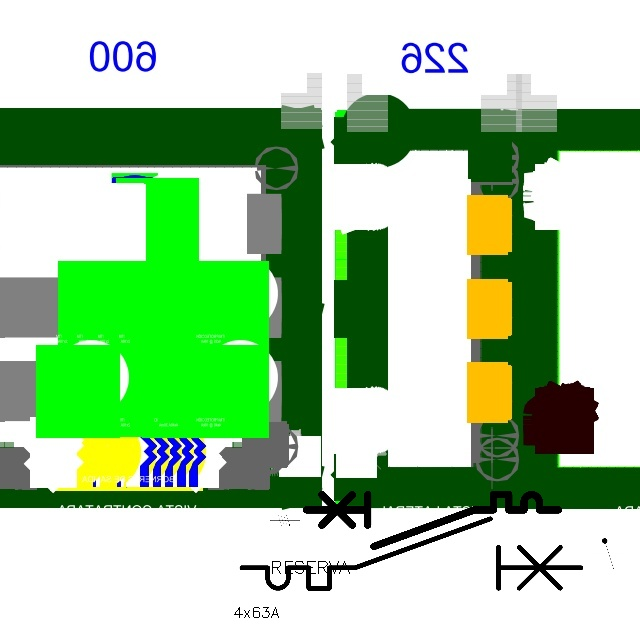interruptor_termomagnetico: (233, 510, 589, 597), (300, 488, 565, 553)
